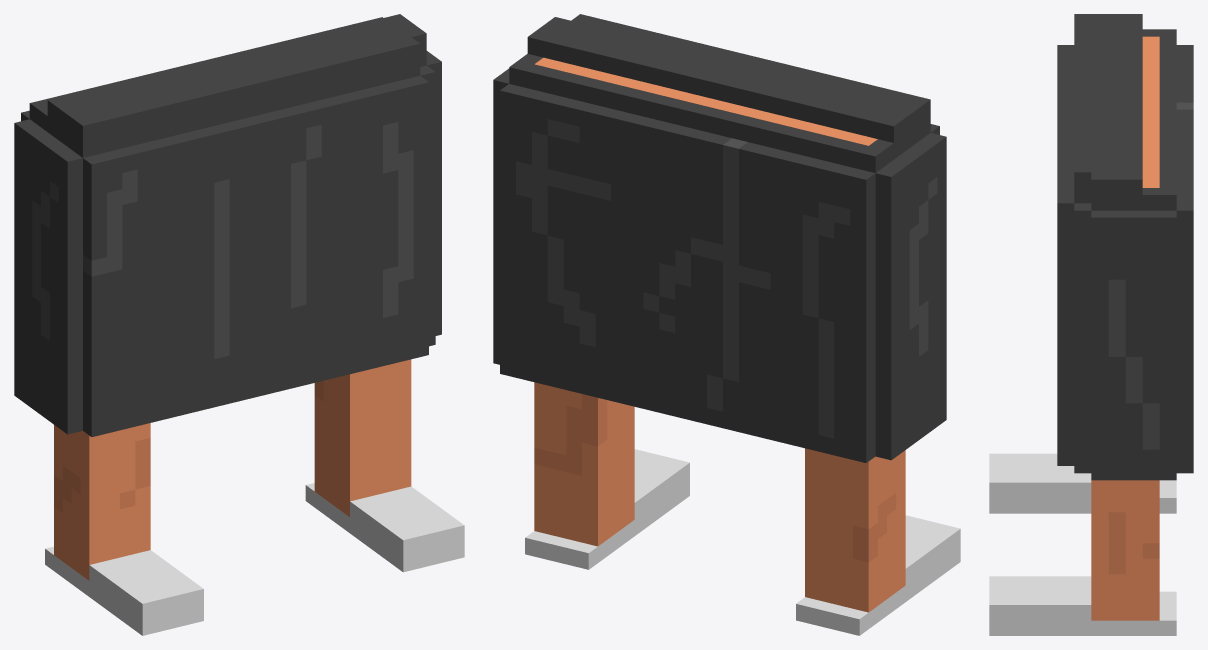
File: granny_foots.obj
The picture shows the model from 3 angles, left to right: view 1: azimuth 30°, elevation 25°; view 2: azimuth 150°, elevation 25°; view 3: azimuth 270°, elevation 25°; orthographic projection. The views are drawn at different scales.
Size of the model in its own units: 2.5 by 3 by 1.2.
1 material, 1 textured.
